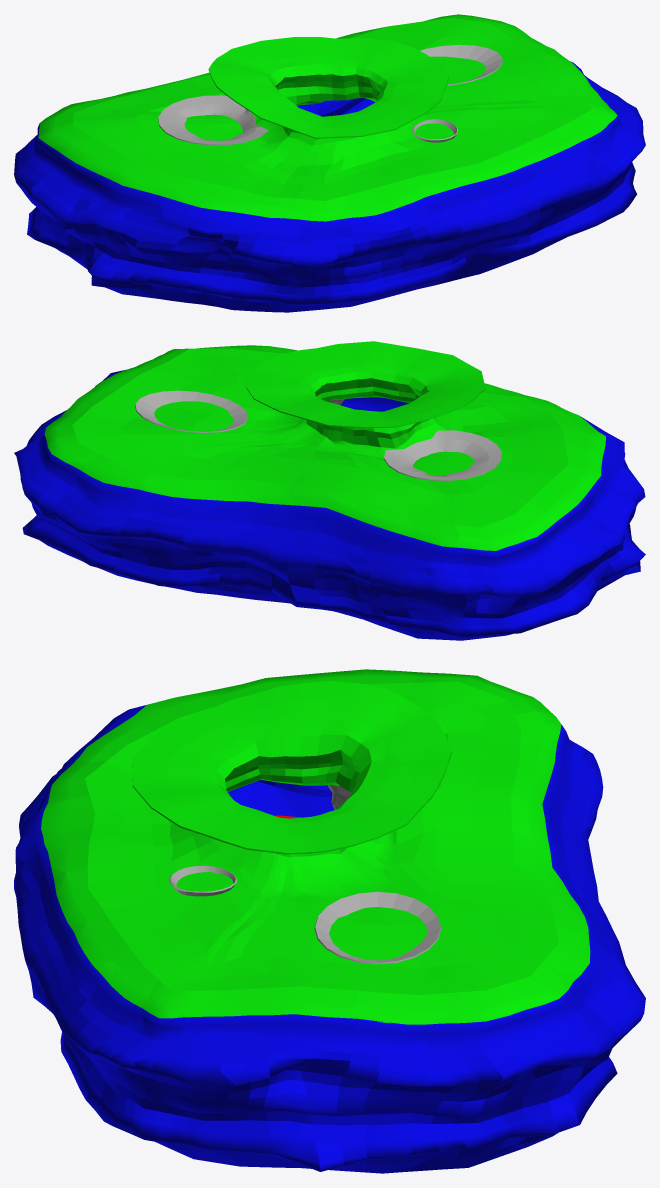
Rendered from ThiccBoi.fbx.
3 renders of one model, top to bottom at view 1: azimuth 30°, elevation 25°; view 2: azimuth 150°, elevation 25°; view 3: azimuth 270°, elevation 25°, orthographic. The views are drawn at different scales.
Parts seen in each view (by area): view 1: Walls, Pillar1, Pillar3; view 2: Walls, Pillar1, Pillar3; view 3: Walls, Pillar3, Pillar2.
Boxes of the visible parts, x1=… form: Walls: x1=14, y1=14, x2=645, y2=312; Pillar1: x1=158, y1=95, x2=268, y2=145; Pillar3: x1=420, y1=44, x2=502, y2=85; Walls: x1=14, y1=341, x2=645, y2=640; Pillar1: x1=383, y1=430, x2=502, y2=480; Pillar3: x1=135, y1=390, x2=247, y2=432; Walls: x1=14, y1=669, x2=645, y2=1173; Pillar3: x1=314, y1=891, x2=441, y2=964; Pillar2: x1=169, y1=865, x2=236, y2=896.
Size of the model in its own units: 887 by 271 by 599.
